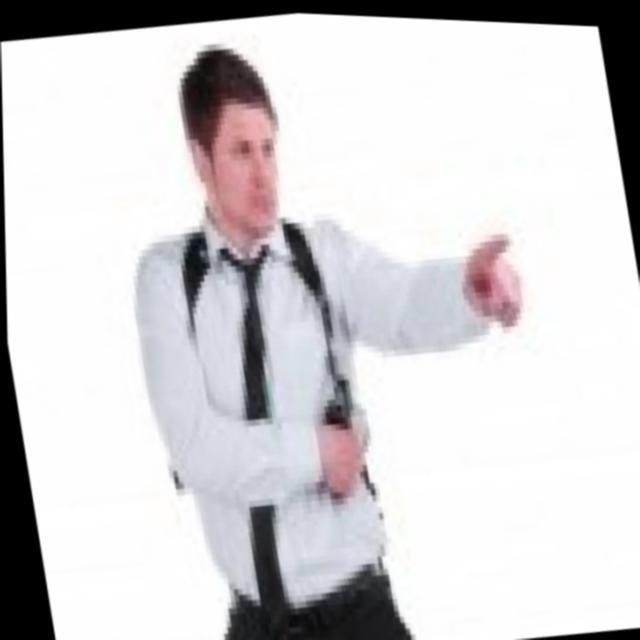weapon: (314, 372, 356, 431)
